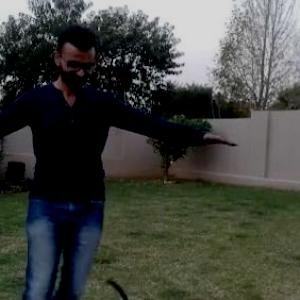land: (0, 48, 177, 296)
